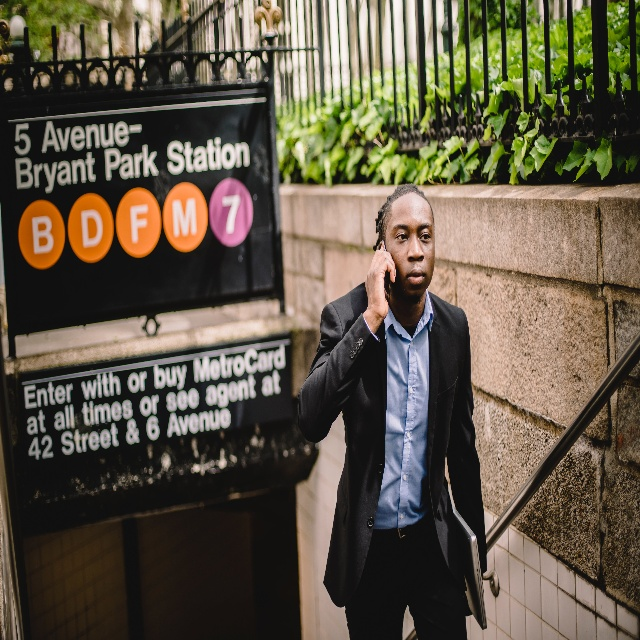Sin_guantes: (362, 246, 395, 321)
